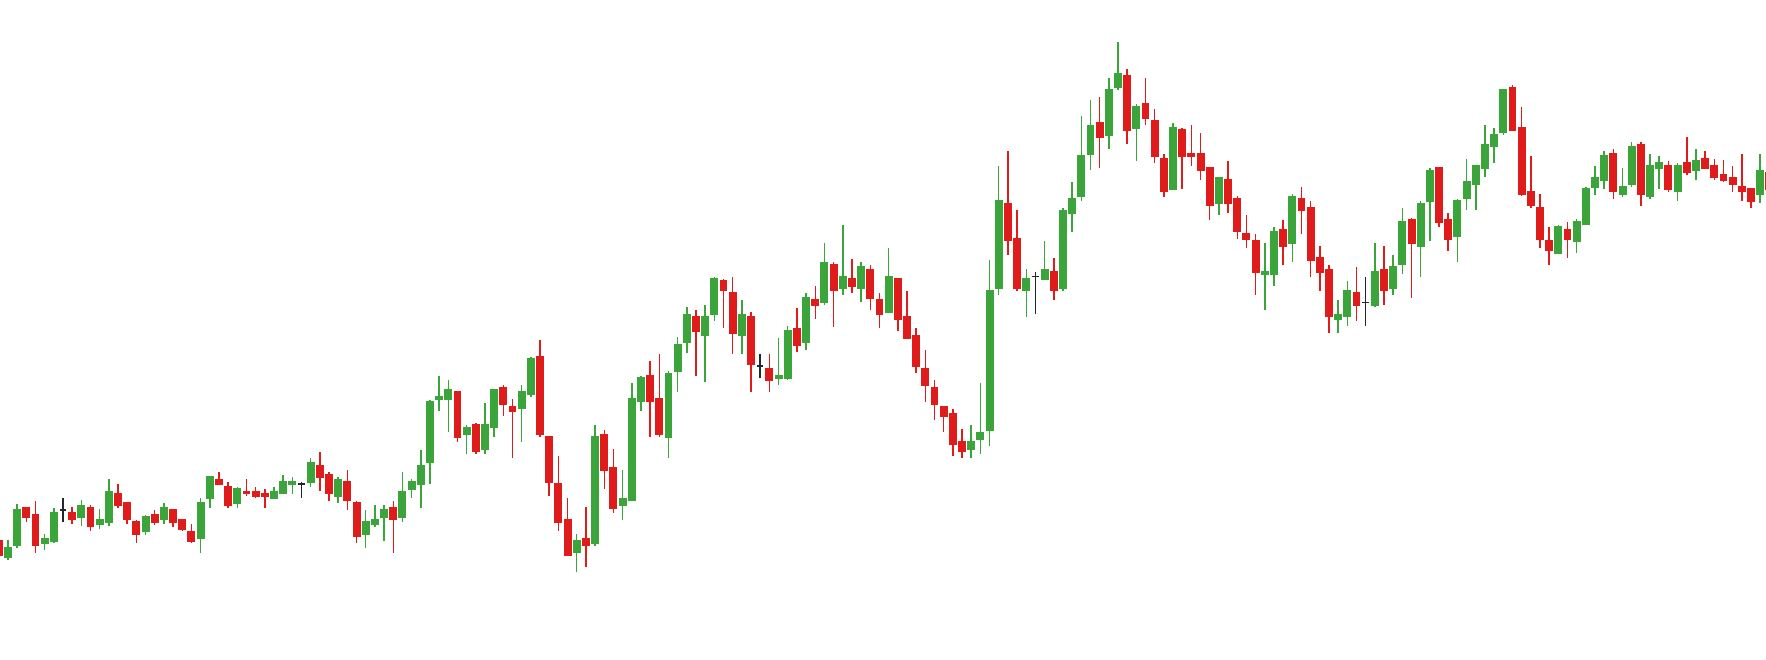buy: (389, 442, 581, 573), (1446, 161, 1563, 266), (1250, 248, 1353, 335)
